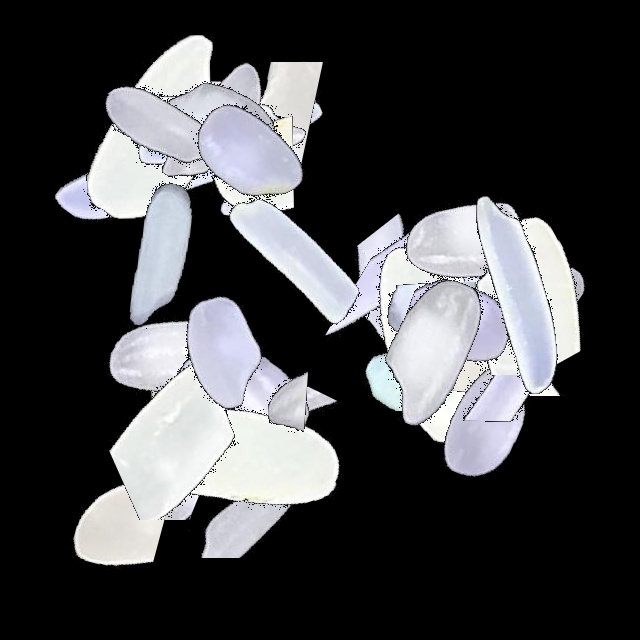Broken: (70, 348, 320, 520), (390, 205, 640, 375), (364, 249, 614, 418), (364, 201, 614, 365), (117, 394, 367, 558), (333, 179, 496, 429), (152, 340, 402, 502), (11, 366, 261, 520), (311, 222, 561, 375), (347, 225, 597, 370), (418, 231, 547, 481), (37, 380, 165, 630), (308, 282, 558, 408), (166, 276, 286, 526), (157, 11, 276, 261), (125, 62, 375, 180), (111, 100, 361, 214), (118, 39, 229, 289), (251, 313, 351, 563), (390, 299, 640, 396), (134, 337, 384, 433), (254, 320, 504, 411), (111, 454, 361, 544), (178, 3, 253, 253)
Full: (305, 217, 555, 467), (27, 42, 277, 292), (103, 291, 353, 541), (83, 0, 333, 250), (304, 212, 554, 462), (352, 118, 602, 368), (72, 287, 322, 537), (62, 0, 312, 250), (32, 0, 282, 250), (363, 297, 613, 547), (146, 0, 396, 250), (54, 236, 304, 486), (103, 0, 353, 250), (86, 0, 336, 250), (84, 264, 334, 514), (139, 278, 389, 528), (35, 128, 285, 378), (109, 335, 359, 585), (94, 0, 344, 250), (169, 132, 419, 382), (95, 224, 345, 474), (91, 0, 341, 250), (36, 0, 286, 250), (124, 28, 374, 278), (303, 224, 553, 474), (390, 171, 640, 421)
